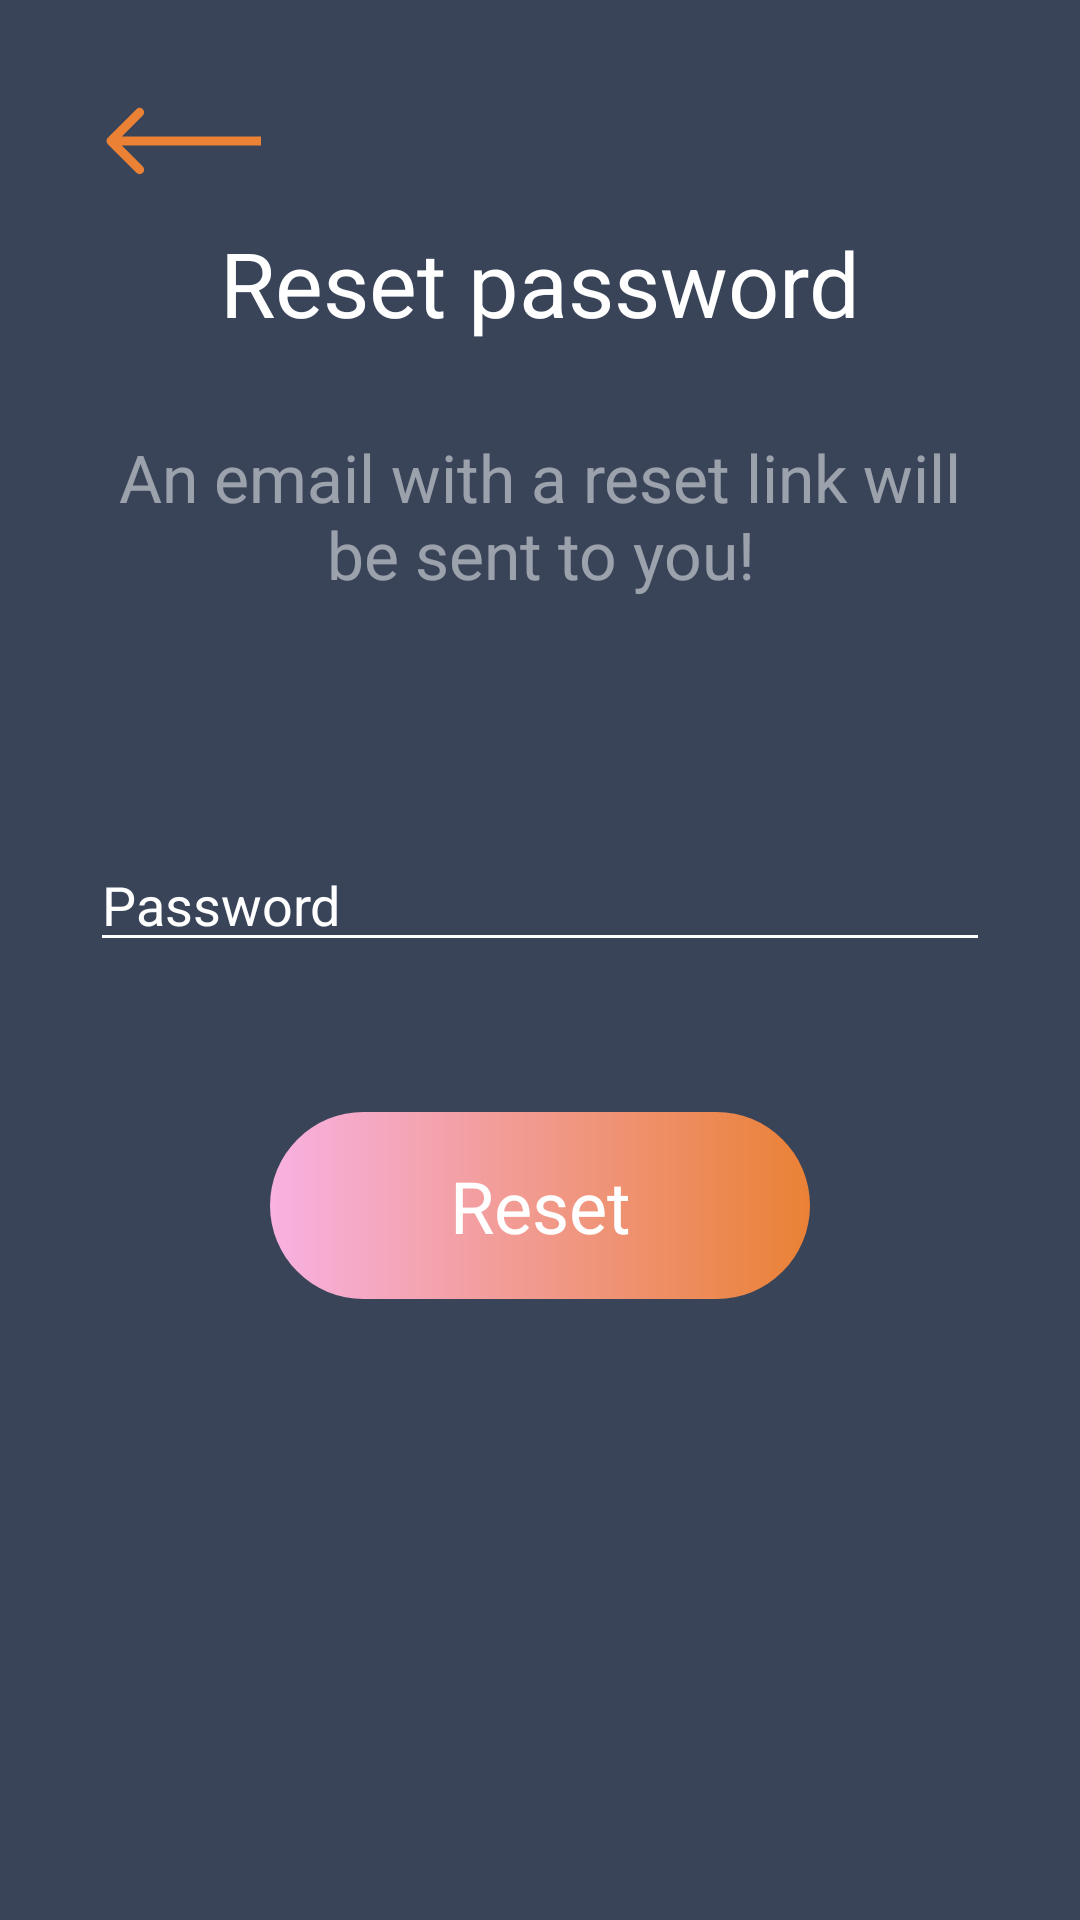

Icons on this 1080 x 1920 Android screen, each with its box as (x1, y1, x2, y2):
arrow left: (106, 107, 261, 175)
